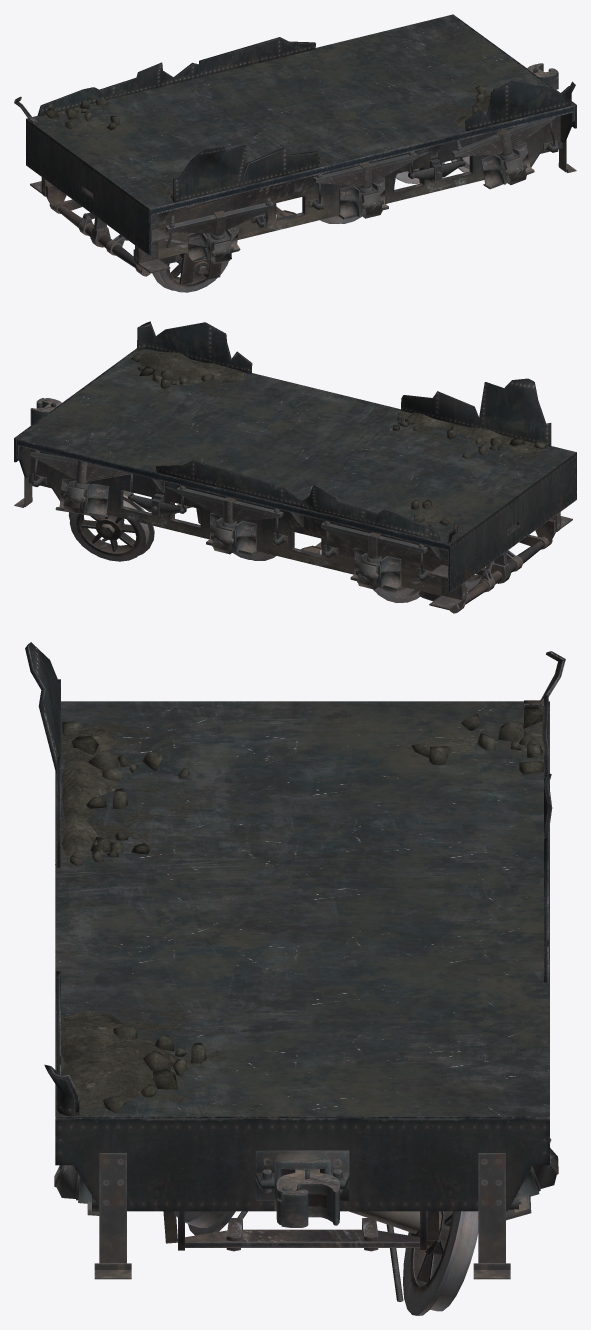
File: BrokenTrain2.fbx
The picture shows the model from 3 angles, top to bottom: view 1: azimuth 30°, elevation 25°; view 2: azimuth 150°, elevation 25°; view 3: azimuth 270°, elevation 25°; orthographic projection. The views are drawn at different scales.
Parts seen in each view (by area): view 1: SM_d_114_BrokenLocomotive_01c; view 2: SM_d_114_BrokenLocomotive_01c; view 3: SM_d_114_BrokenLocomotive_01c.
Part boxes in pixels (left/top/right/bottom): SM_d_114_BrokenLocomotive_01c: left=14, top=14, right=576, bottom=292; SM_d_114_BrokenLocomotive_01c: left=14, top=321, right=576, bottom=613; SM_d_114_BrokenLocomotive_01c: left=25, top=642, right=565, bottom=1315.
Size of the model in its own units: 865 by 315 by 425.
6 materials, 6 textured.
